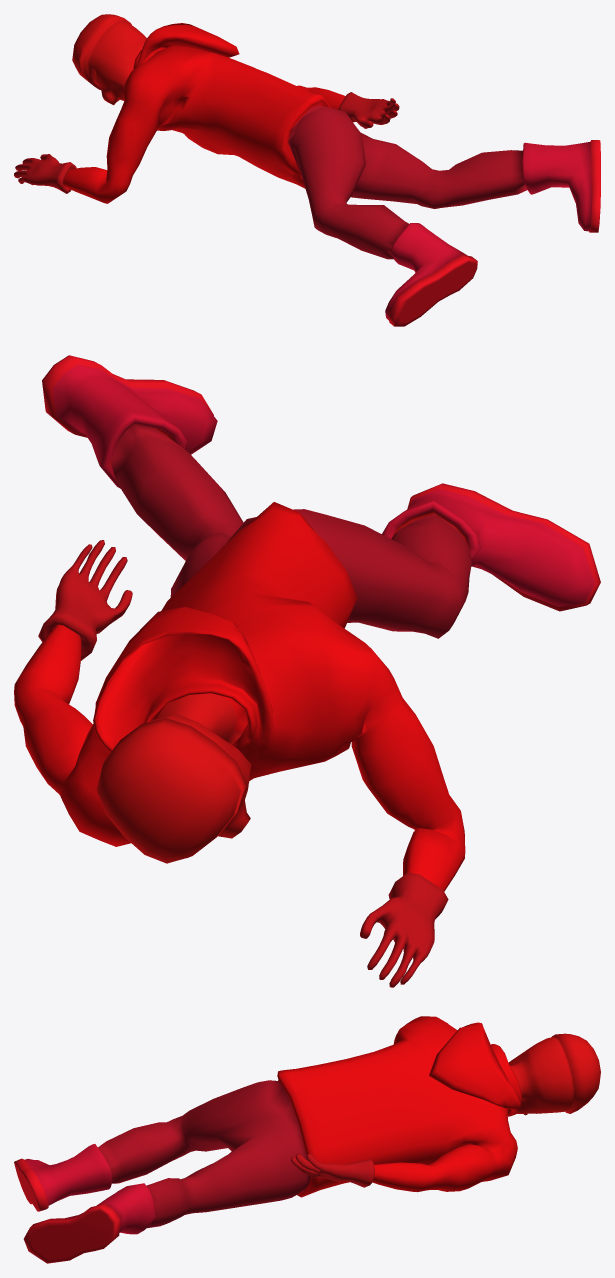
File: victim02.dae
3 renders of one model, top to bottom at view 1: azimuth 30°, elevation 25°; view 2: azimuth 150°, elevation 25°; view 3: azimuth 270°, elevation 25°, orthographic. The views are drawn at different scales.
Visible parts, largest first — view 1: Man; view 2: Man; view 3: Man.
Part boxes in pixels (left/top/right/bottom): Man: left=14, top=14, right=600, bottom=326; Man: left=14, top=355, right=600, bottom=987; Man: left=14, top=1016, right=600, bottom=1263.
Bounding box in the file's own units: 0.9567 × 1.17 × 0.3513.
